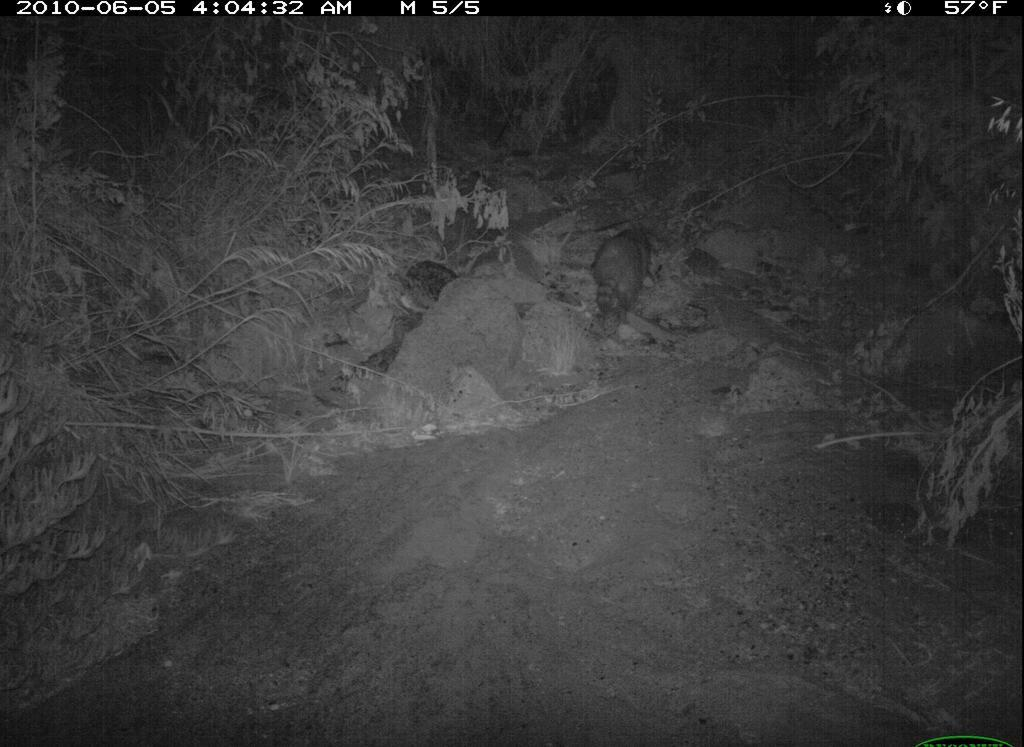raccoon: (597, 219, 679, 324)
